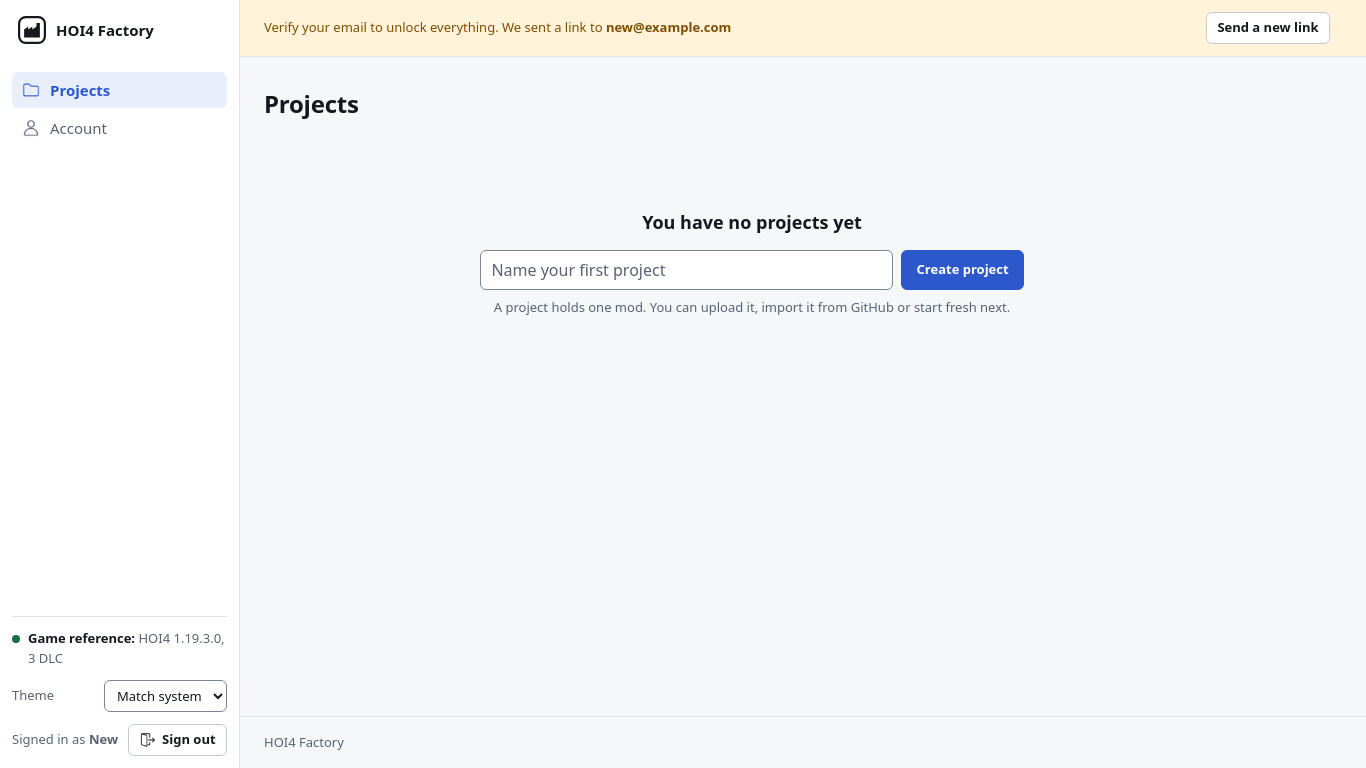
Scenario: unverified account › sees a small banner with a way to get a new link
Expected: the element named "Email verification" shows "new@example.com", [606,18,731,36]
Click the button "Send a new link" at (1268, 28), box [1206,12,1330,44]
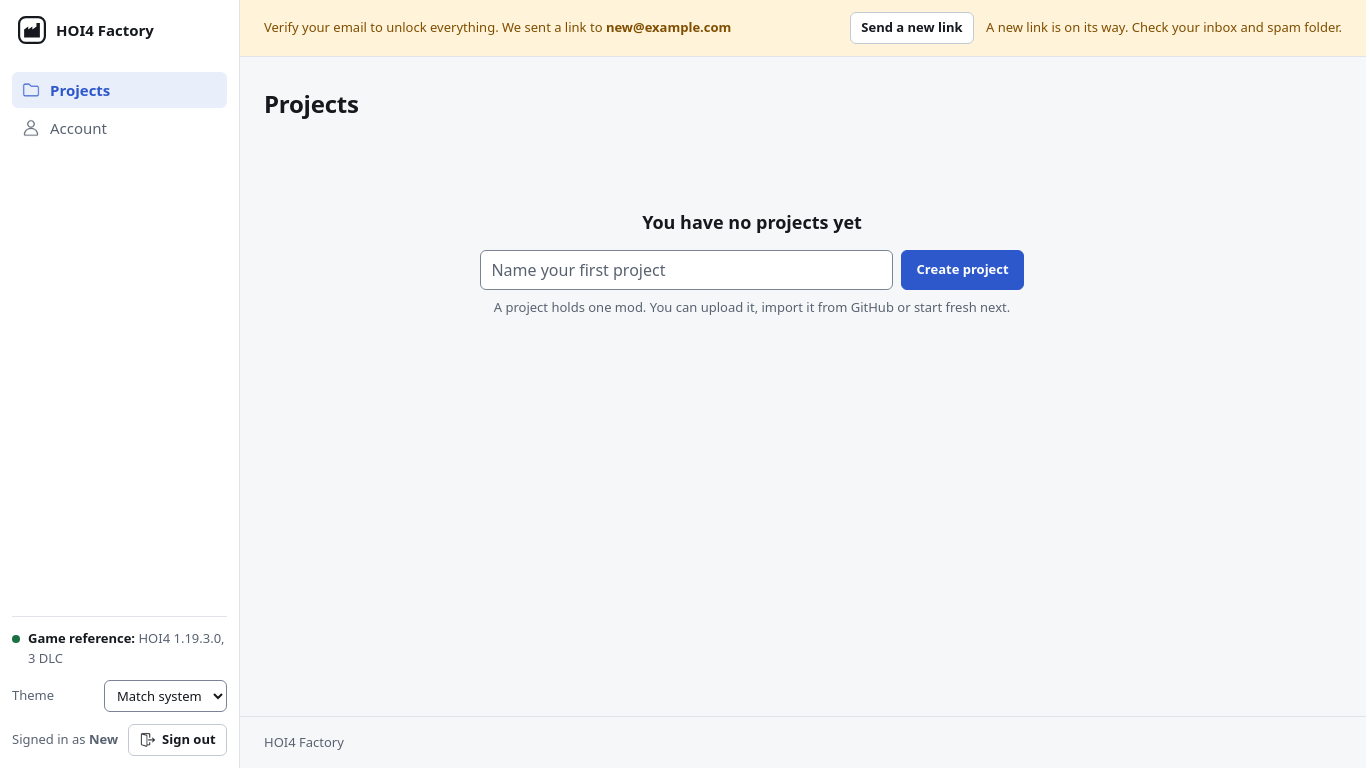
Expected: the heading "Projects" is shown, [264,89,359,119]
Now the text "A new link is on its way. Check your inbox and spam folder." is shown, box [986,18,1342,38]
